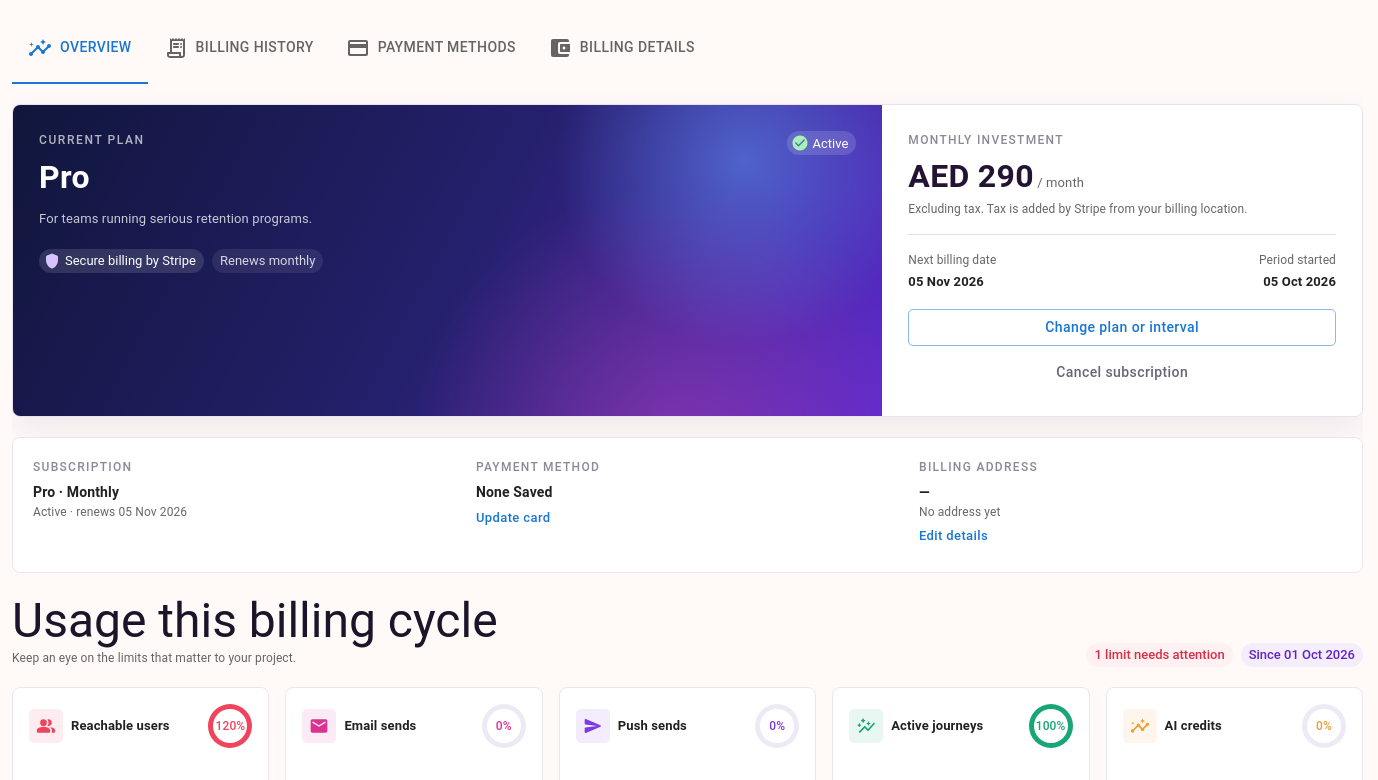
Test: BillingSection › lists invoices with tax on its own, and says so when there are none
The width and height of the screenshot is (1378, 780).
Step 1. Click the tab "Billing history" → (239, 48), box [148,12,330,84]
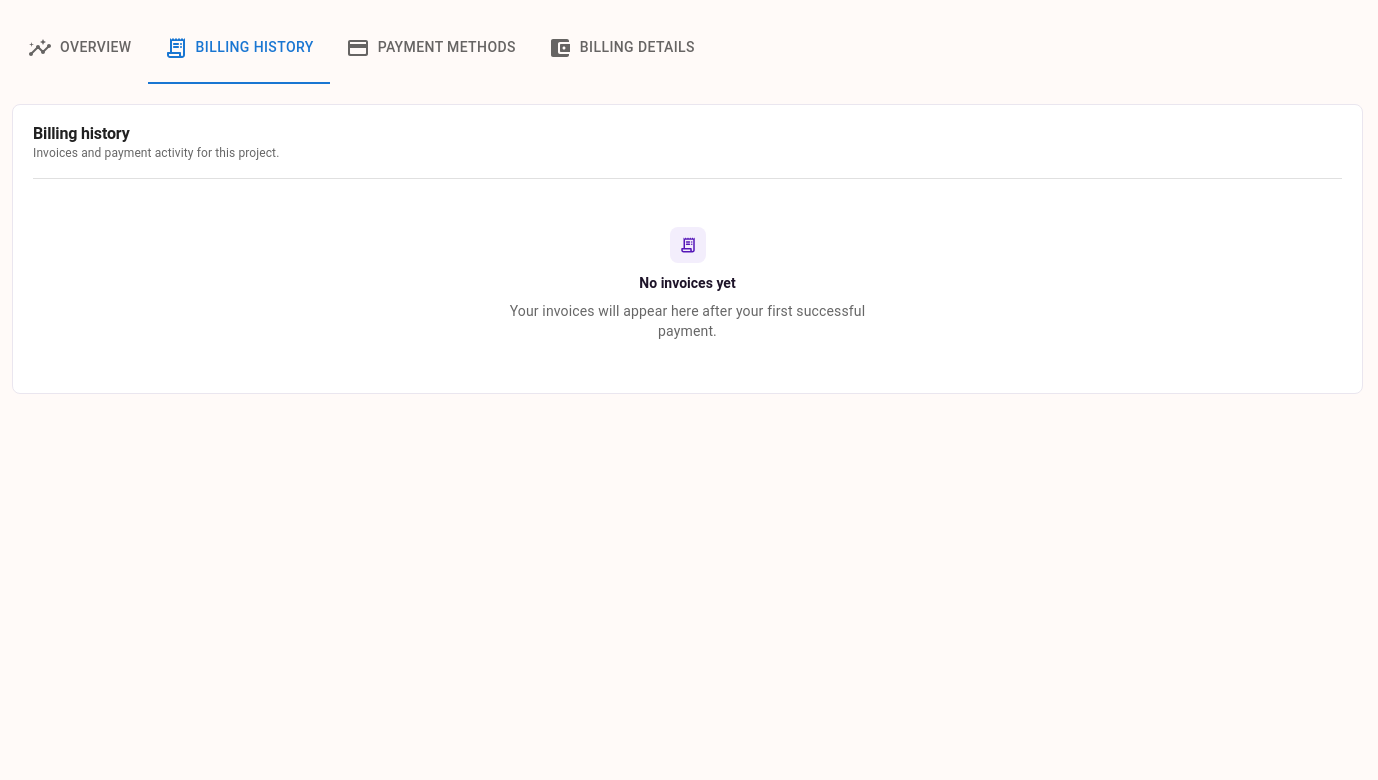
Check: the text "Your invoices will appear here after your first successful payment." is shown, box [508,301,868,341]
